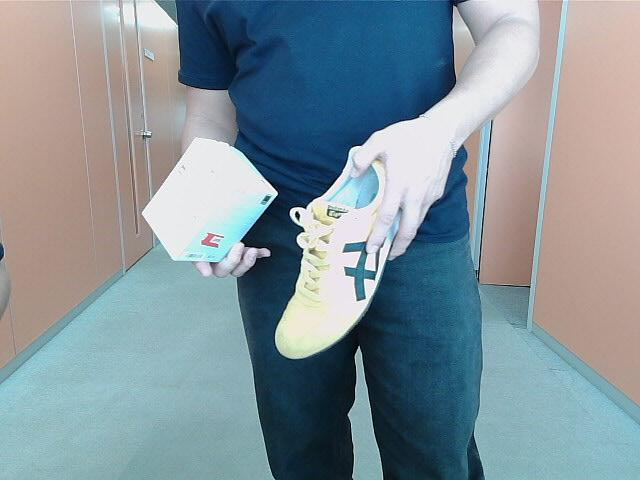Blind_box: (146, 142, 278, 264)
Shoes: (274, 146, 414, 364)
